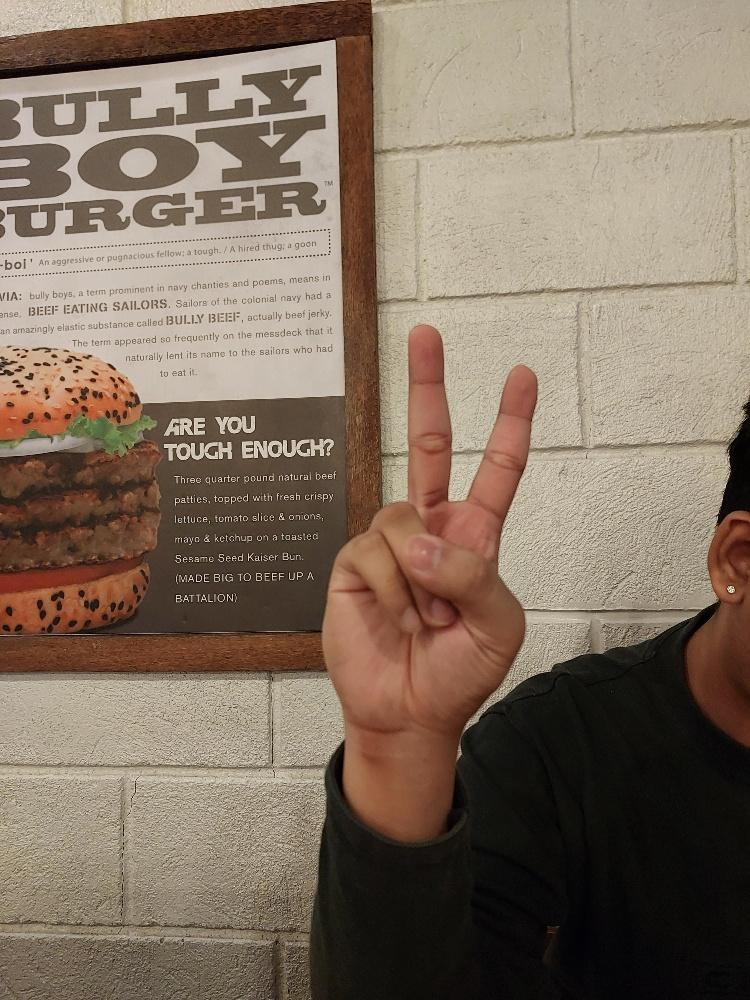v: (319, 321, 538, 733)
